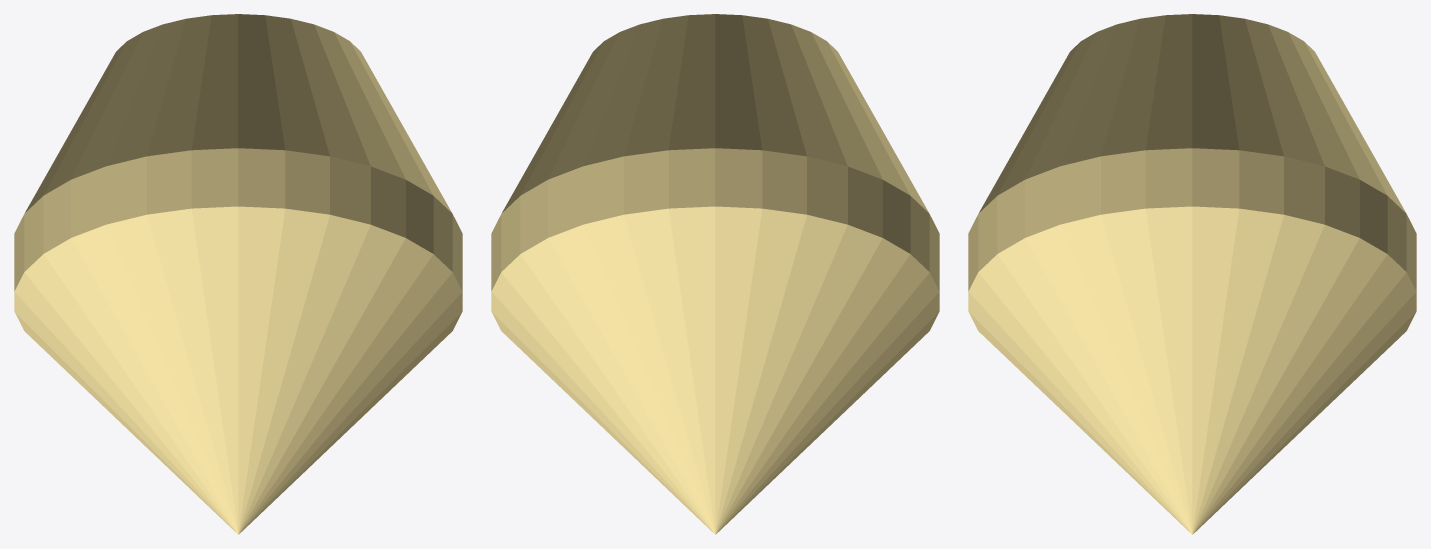
The picture shows the model from 3 angles, left to right: view 1: azimuth 30°, elevation 25°; view 2: azimuth 150°, elevation 25°; view 3: azimuth 270°, elevation 25°; orthographic projection.
Visible parts, largest first — view 1: algeomath; view 2: algeomath; view 3: algeomath.
Boxes of the visible parts, x1,y1,x2,y2 form: algeomath: (14,14,462,534); algeomath: (491,14,939,534); algeomath: (968,14,1416,534).
Bounding box in the file's own units: 7 × 8 × 6.96.
